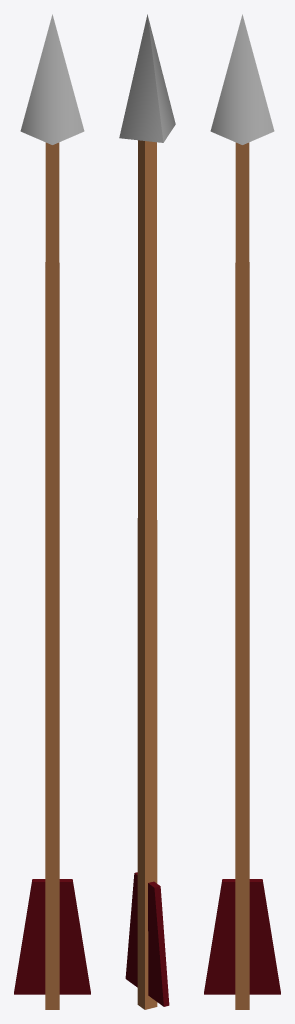
Rendered from Arrow 01.FBX.
The picture shows the model from 3 angles, left to right: view 1: azimuth 90°, elevation 25°; view 2: azimuth 210°, elevation 25°; view 3: azimuth 270°, elevation 25°; orthographic projection.
Parts seen in each view (by area): view 1: Arrow 01; view 2: Arrow 01; view 3: Arrow 01.
Boxes of the visible parts, left/top/right/bottom form: Arrow 01: left=14, top=14, right=90, bottom=1009; Arrow 01: left=119, top=14, right=175, bottom=1009; Arrow 01: left=204, top=14, right=280, bottom=1009.
Bounding box in the file's own units: 6.36 × 7.47 × 106.
